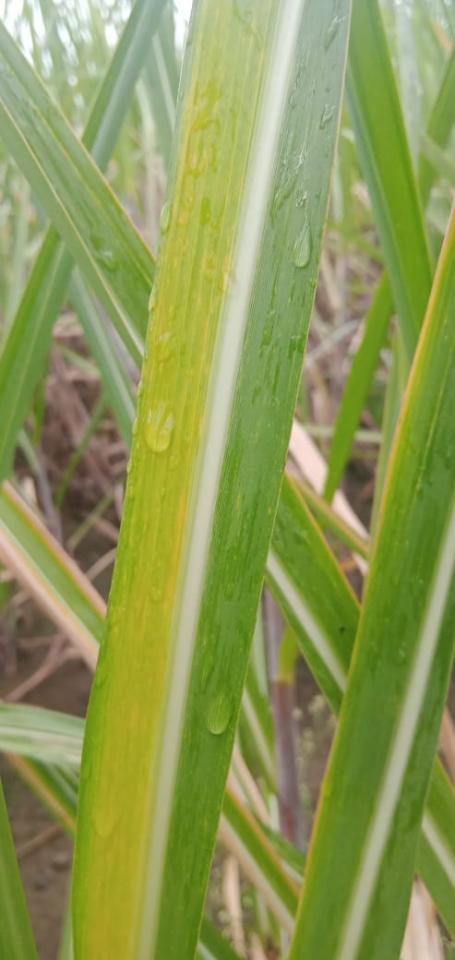Yellow: (78, 0, 278, 959), (346, 203, 454, 689)
